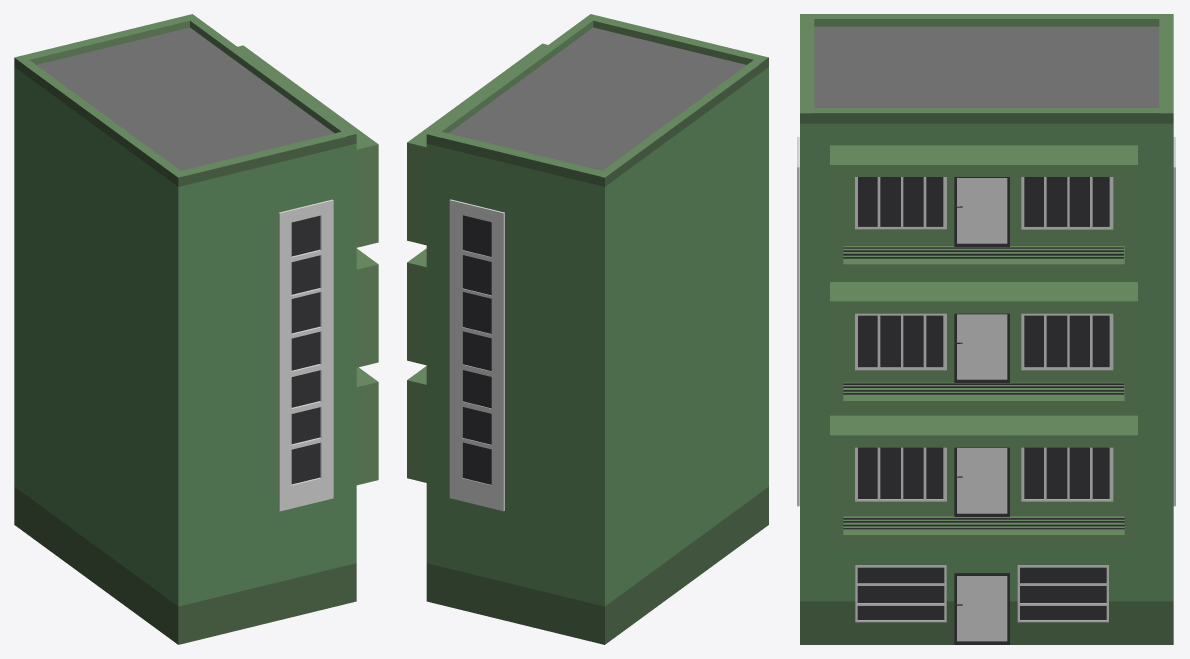
The model's file is Building_PanelModern_Green.fbx.
The picture shows the model from 3 angles, left to right: view 1: azimuth 30°, elevation 25°; view 2: azimuth 150°, elevation 25°; view 3: azimuth 270°, elevation 25°; orthographic projection. The views are drawn at different scales.
Parts seen in each view (by area): view 1: Plane.001, Plane; view 2: Plane.001, Plane; view 3: Plane.001, Plane, Plane.003, Plane.004.
Boxes of the visible parts, x1,y1,x2,y2 form: Plane.001: (14, 14, 356, 644); Plane: (237, 45, 378, 485); Plane.001: (426, 14, 768, 644); Plane: (407, 43, 547, 482); Plane.001: (797, 14, 1175, 644); Plane: (830, 145, 1137, 546); Plane.003: (855, 177, 1113, 622); Plane.004: (954, 177, 1009, 644).
Size of the model in its own units: 665 by 1393 by 899.
